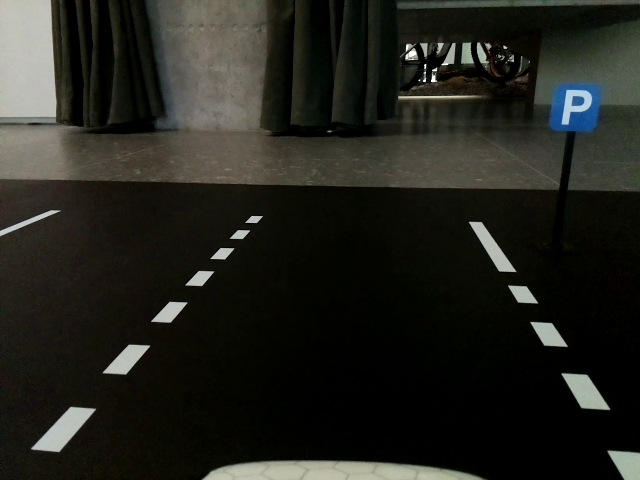park: (552, 83, 599, 134)
